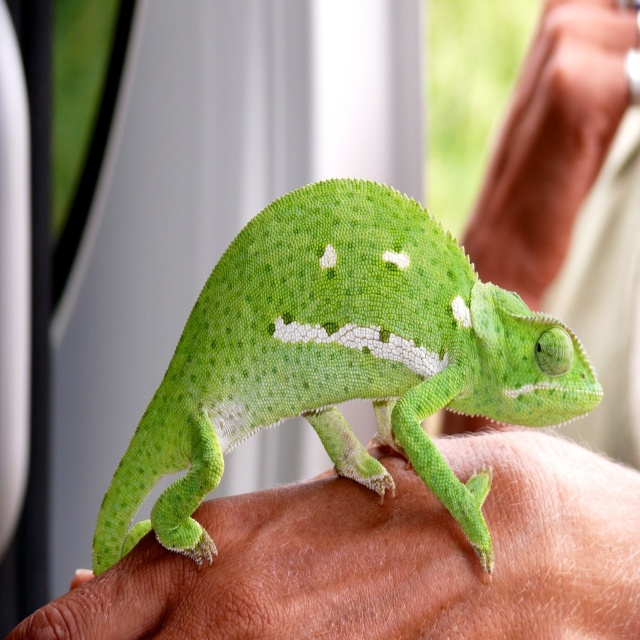Lizard: (71, 174, 597, 601)
